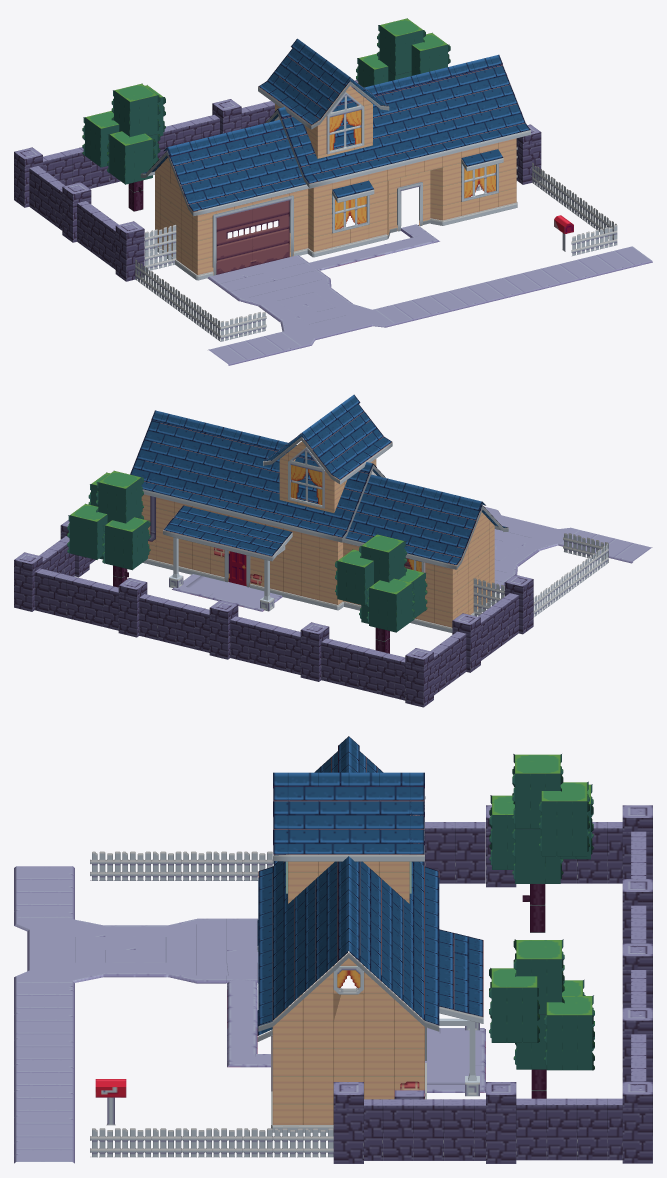
Rendered from house1.fbx.
3 views of the same model, one above another, from view 1: azimuth 30°, elevation 25°; view 2: azimuth 150°, elevation 25°; view 3: azimuth 270°, elevation 25° (orthographic). The views are drawn at different scales.
Visible parts, largest first — view 1: Cube.008; view 2: Cube.008; view 3: Cube.008.
Boxes of the visible parts, x1=… form: Cube.008: x1=14, y1=18, x2=652, y2=365; Cube.008: x1=14, y1=394, x2=652, y2=707; Cube.008: x1=14, y1=736, x2=652, y2=1163.
Size of the model in its own units: 1152 by 441 by 1050.
